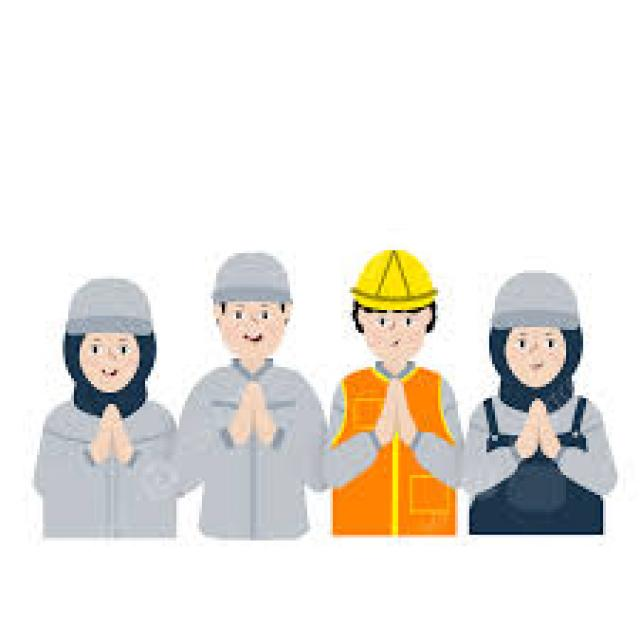Reflective-Jacket: (324, 362, 458, 544)
Safety-Helmet: (341, 242, 444, 316)
